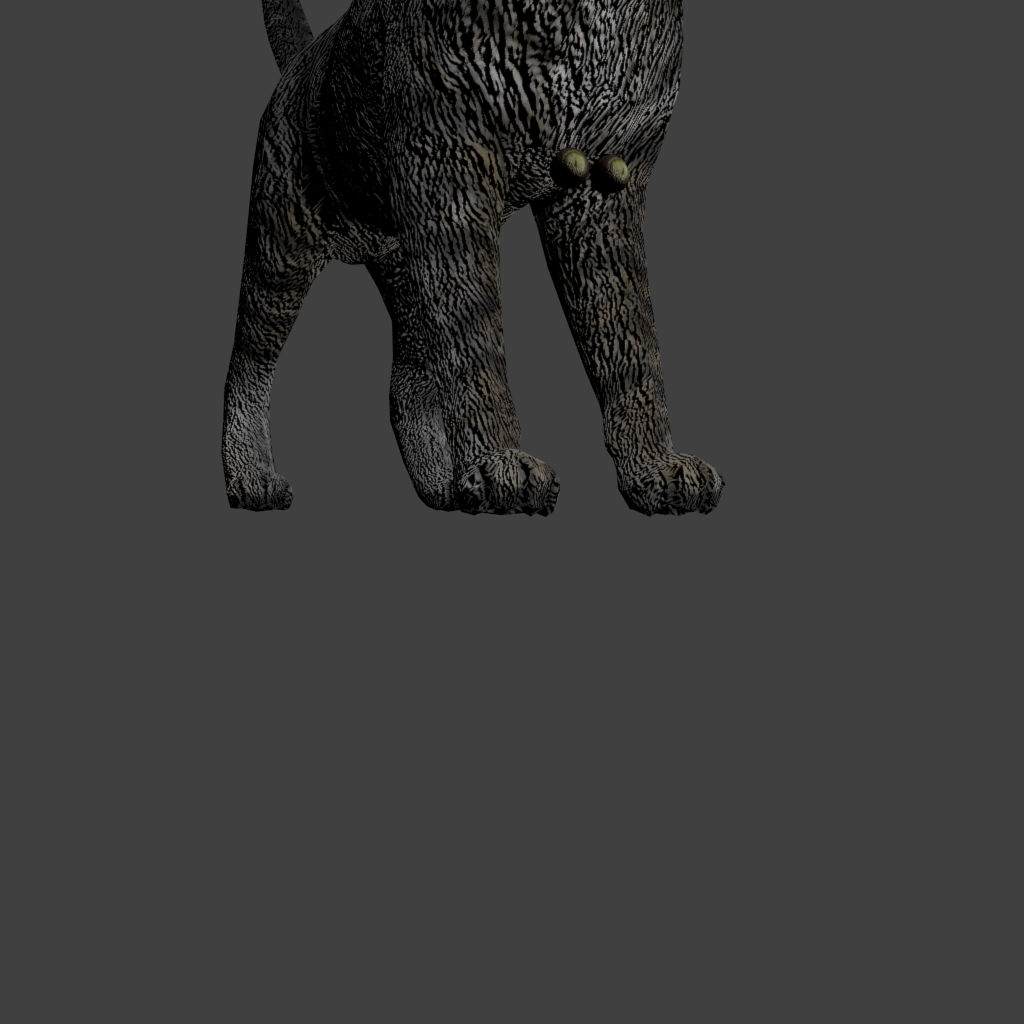Cat: (221, 0, 702, 517)
